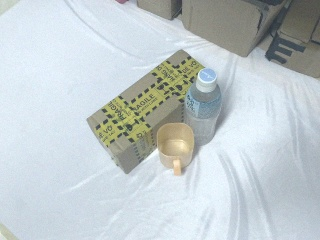bottle: (183, 68, 222, 147)
box: (86, 49, 206, 176), (182, 1, 294, 56), (266, 1, 320, 78), (135, 1, 183, 21)
cup: (155, 121, 195, 176)
